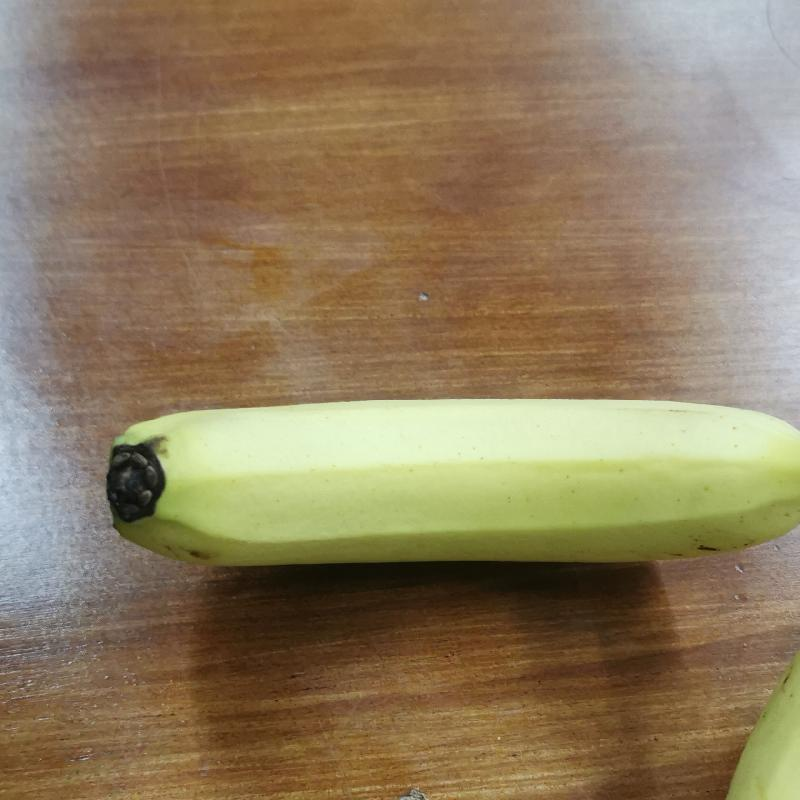bananas: (104, 378, 799, 578)
